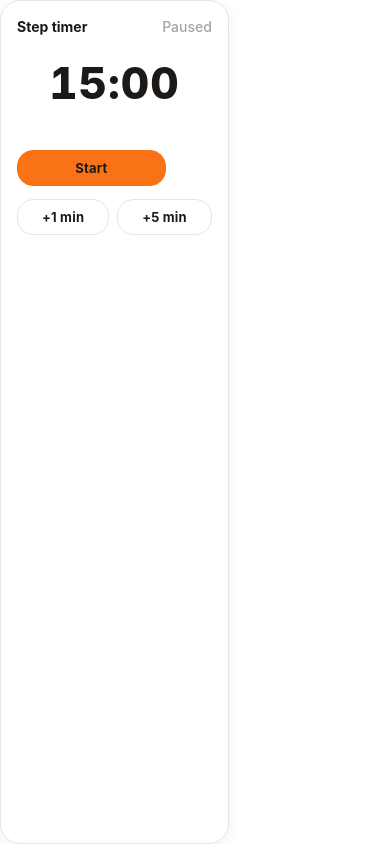
Test: CookingTimer › starts, pauses and resumes
Step 1. Click the button "Start" → (91, 168), box top-left (17, 150), bottom-right (166, 186)
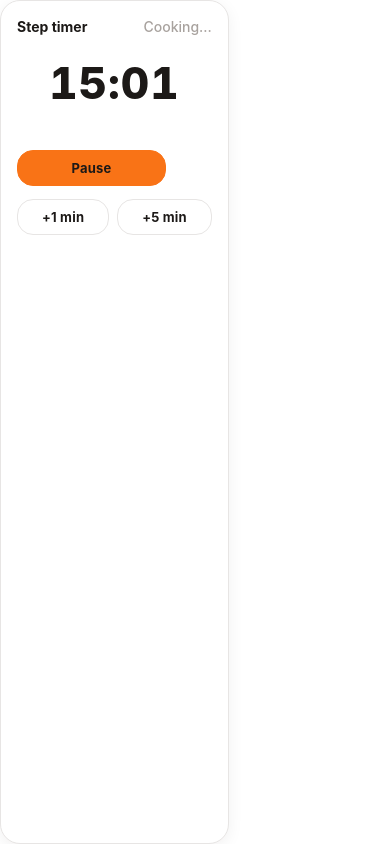
expect the text "Cooking..." is shown: met, box top-left (144, 17), bottom-right (212, 37)
Step 2. Click the button "Pause" → (91, 168), box top-left (17, 150), bottom-right (166, 186)
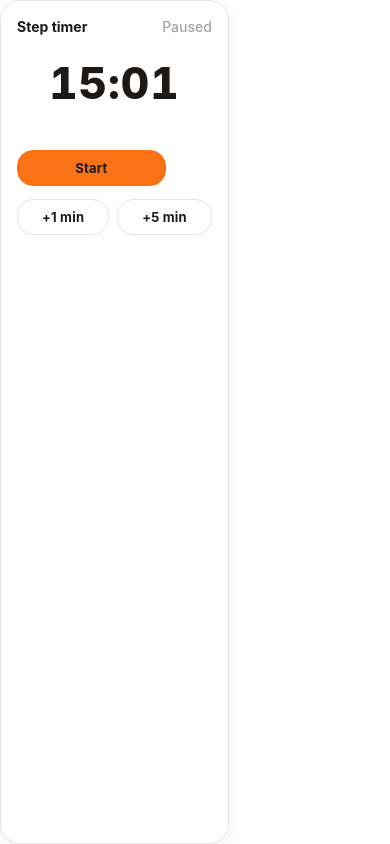
expect the text "Paused" is shown: met, box top-left (162, 17), bottom-right (212, 37)
Step 3. Click the button "Start" → (91, 168), box top-left (17, 150), bottom-right (166, 186)
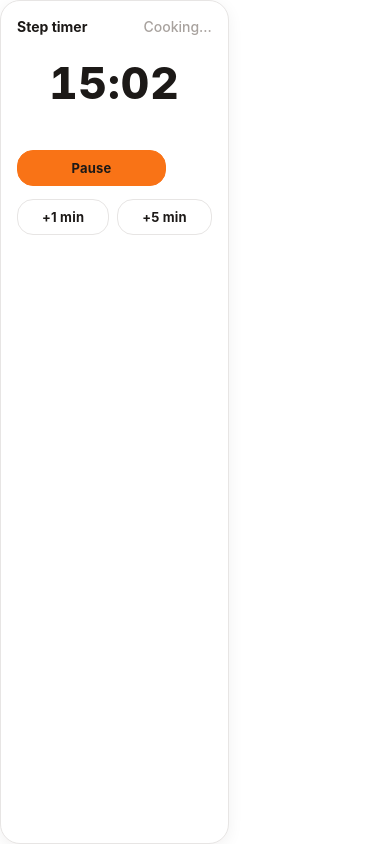
expect the text "Cooking..." is shown: met, box top-left (144, 17), bottom-right (212, 37)
